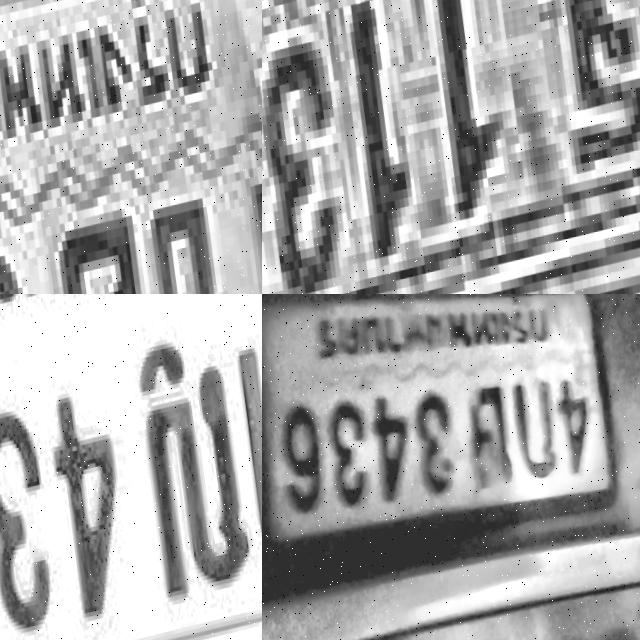license-plate: (262, 0, 640, 294), (262, 294, 607, 563), (0, 294, 262, 640), (0, 0, 262, 294)
